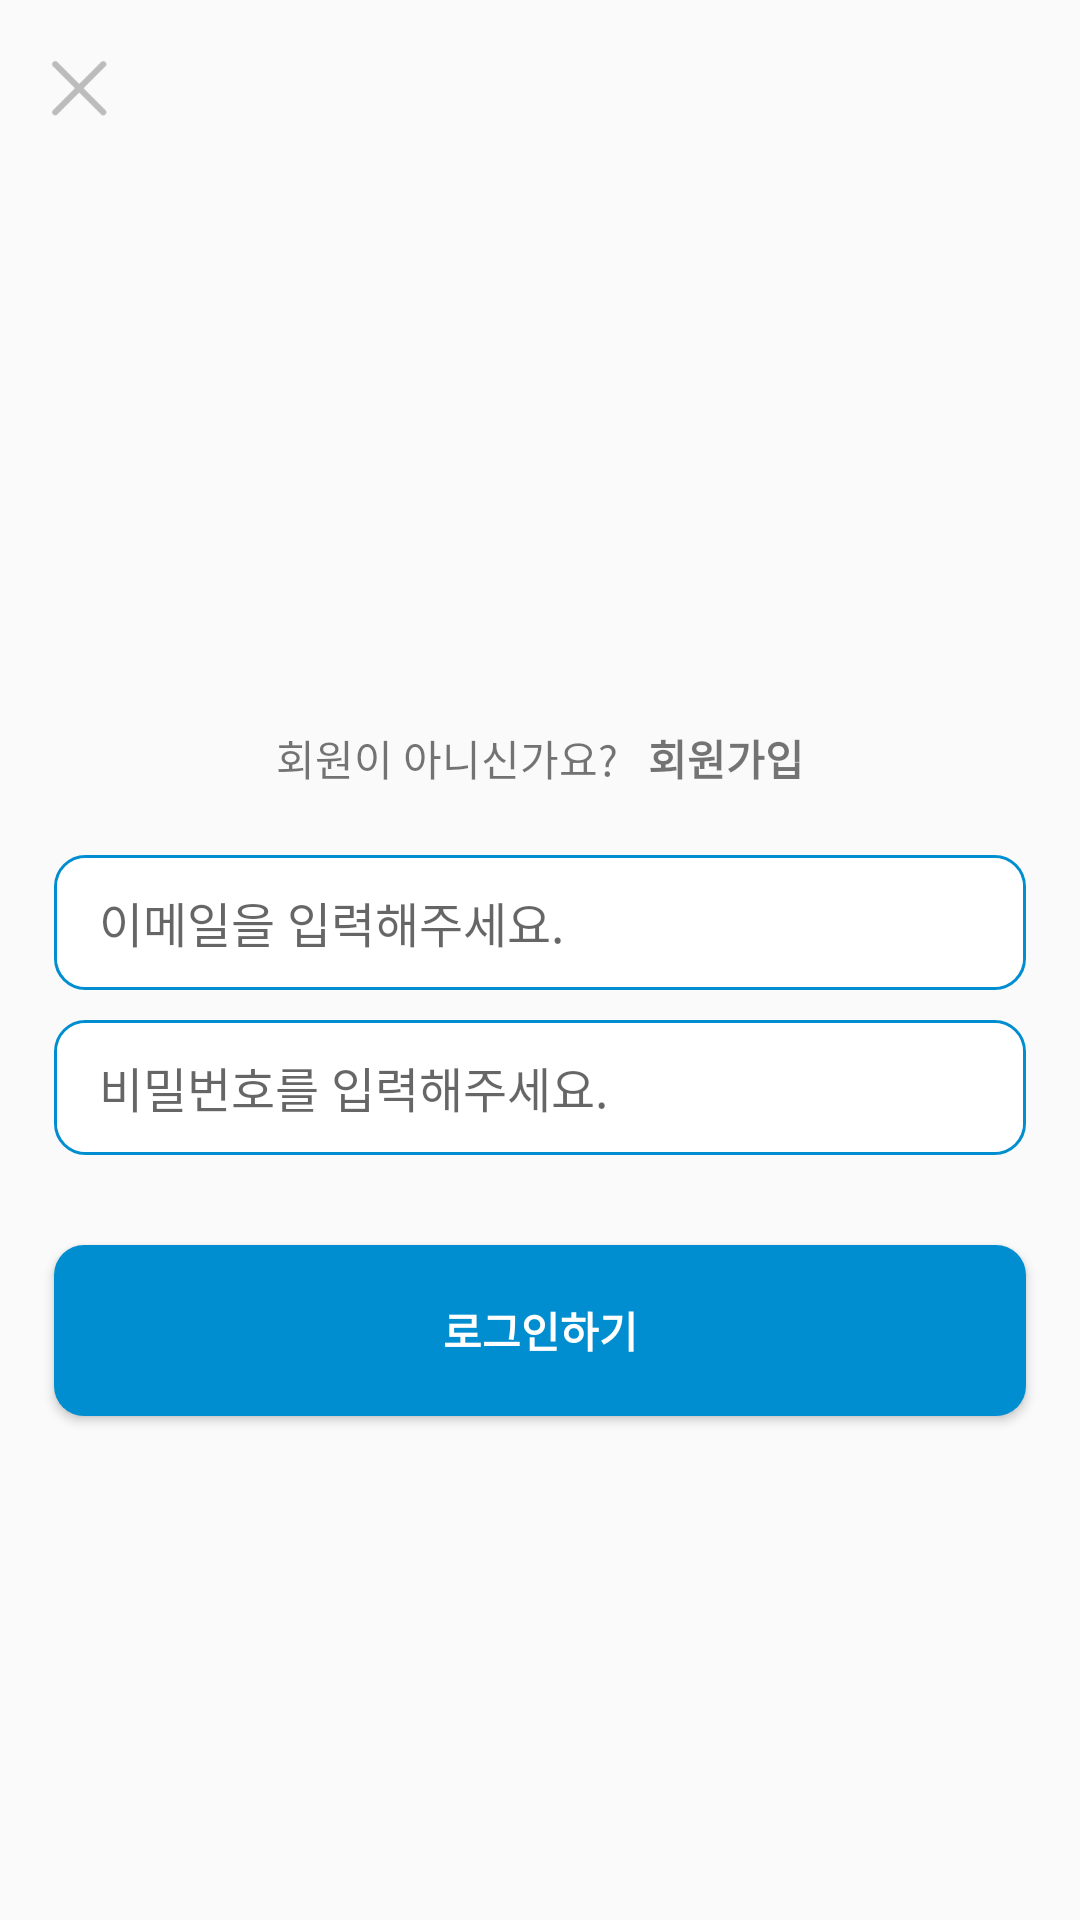

Named icons in this screenshot (1080×1920) and their centers, (x=x, y=y):
join close: (x=79, y=88)
